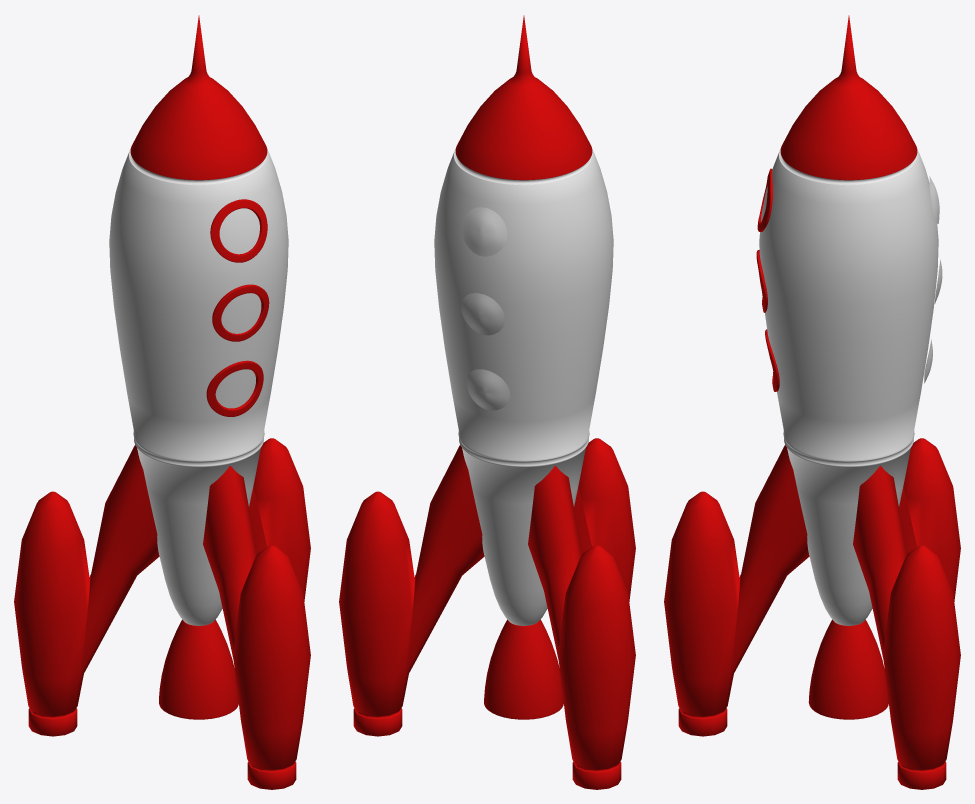
The model's file is retro_rocket.gltf.
The picture shows the model from 3 angles, left to right: view 1: azimuth 30°, elevation 25°; view 2: azimuth 150°, elevation 25°; view 3: azimuth 270°, elevation 25°; orthographic projection.
Visible parts, largest first — view 1: rocket_body, small_engine_2, small_engine, main_engine, small_engine_3, windows; view 2: rocket_body, small_engine_3, small_engine_2, main_engine, small_engine, window_glass; view 3: rocket_body, small_engine, small_engine_3, main_engine, small_engine_2, windows, window_glass.
Part boxes in pixels (x1,y1,x2,y2): rocket_body: (109,15,288,625); small_engine_2: (14,445,159,736); small_engine: (203,465,310,789); main_engine: (159,619,238,719); small_engine_3: (249,438,310,601); windows: (206,199,269,416); rocket_body: (434,15,613,625); small_engine_3: (339,445,484,736); small_engine_2: (528,465,635,789); main_engine: (484,619,563,719); small_engine: (574,438,635,601); window_glass: (461,207,509,410); rocket_body: (759,15,938,625); small_engine: (664,445,809,736); small_engine_3: (853,465,960,789); main_engine: (808,619,888,719); small_engine_2: (899,438,960,601); windows: (756,168,779,391); window_glass: (924,176,942,383).
Size of the model in its own units: 2.02 by 4.8 by 1.81.
